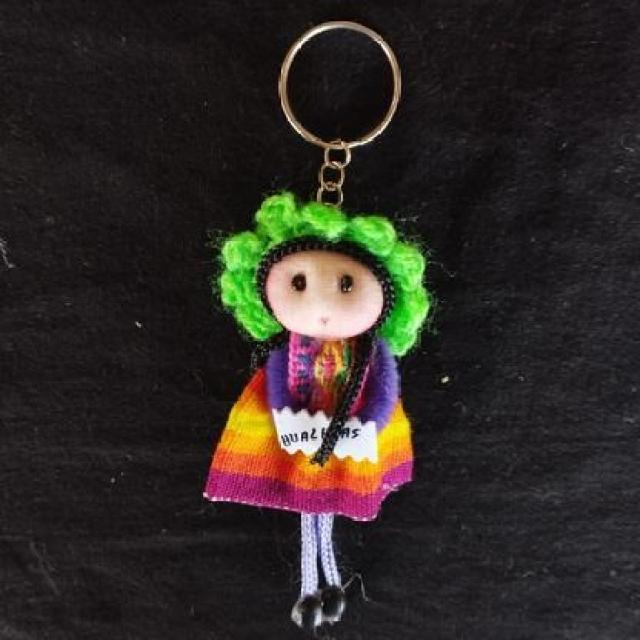Llavero: (201, 190, 433, 636)
